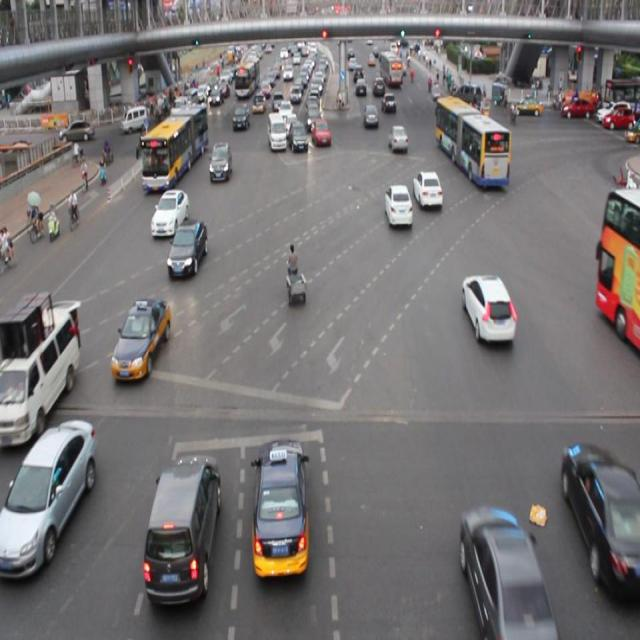car: (0, 419, 96, 572), (458, 506, 554, 640), (562, 446, 640, 596), (252, 436, 310, 581), (110, 296, 170, 382), (459, 274, 515, 346), (166, 220, 208, 279), (151, 189, 189, 236), (385, 182, 412, 227), (208, 140, 232, 186), (412, 171, 442, 207), (289, 119, 310, 157), (386, 122, 409, 154), (310, 116, 331, 149), (232, 102, 250, 131), (362, 104, 378, 132)
truck: (1, 298, 82, 446), (143, 452, 220, 604), (267, 112, 287, 153)
van: (595, 185, 640, 353), (436, 97, 507, 187), (142, 103, 206, 186)
